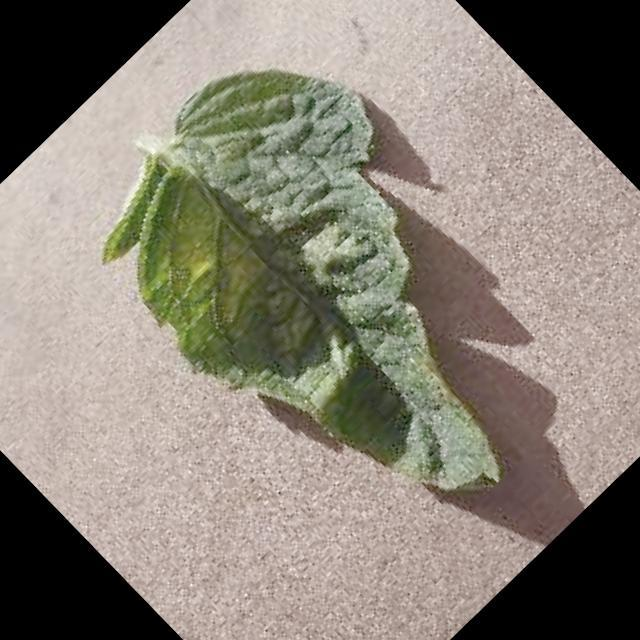Tomato spider mites leaf: (54, 6, 627, 583)
